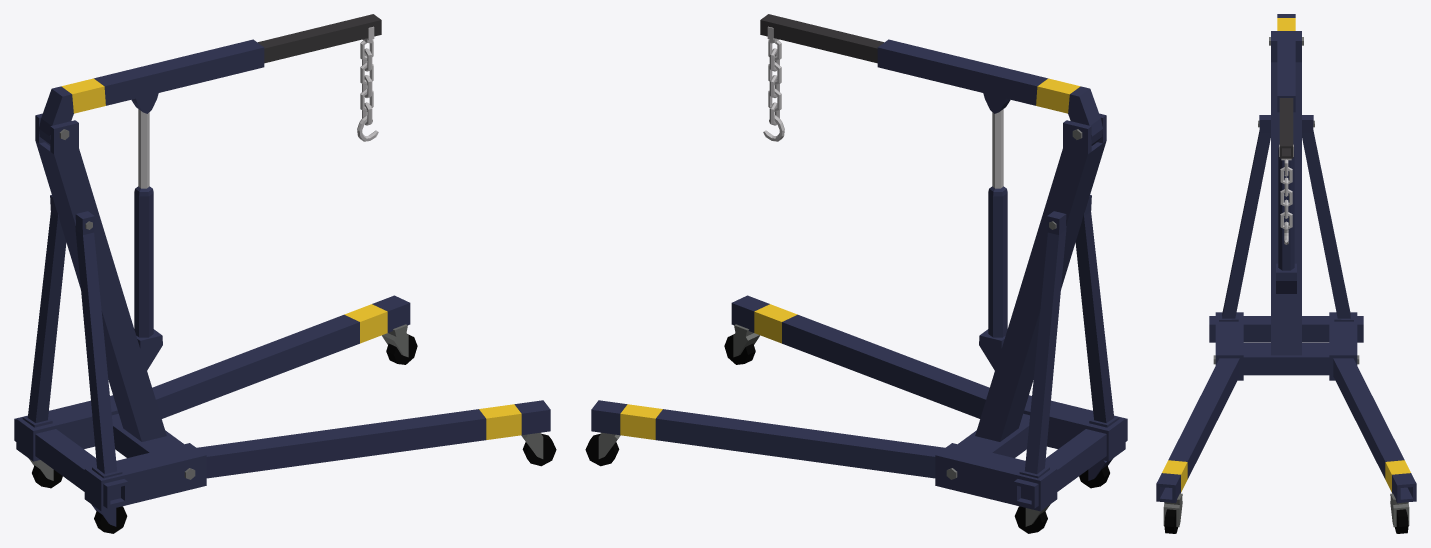
Rendered from SM_LiftTool_02.glb.
The picture shows the model from 3 angles, left to right: view 1: azimuth 30°, elevation 25°; view 2: azimuth 150°, elevation 25°; view 3: azimuth 270°, elevation 25°; orthographic projection. The views are drawn at different scales.
Parts seen in each view (by area): view 1: SM_LiftTool_02; view 2: SM_LiftTool_02; view 3: SM_LiftTool_02.
Boxes of the visible parts, left/top/right/bottom form: SM_LiftTool_02: left=14, top=14, right=556, bottom=533; SM_LiftTool_02: left=585, top=14, right=1127, bottom=533; SM_LiftTool_02: left=1156, top=14, right=1416, bottom=533.
Size of the model in its own units: 1.9 by 1.74 by 1.17.
1 material, 1 textured.
